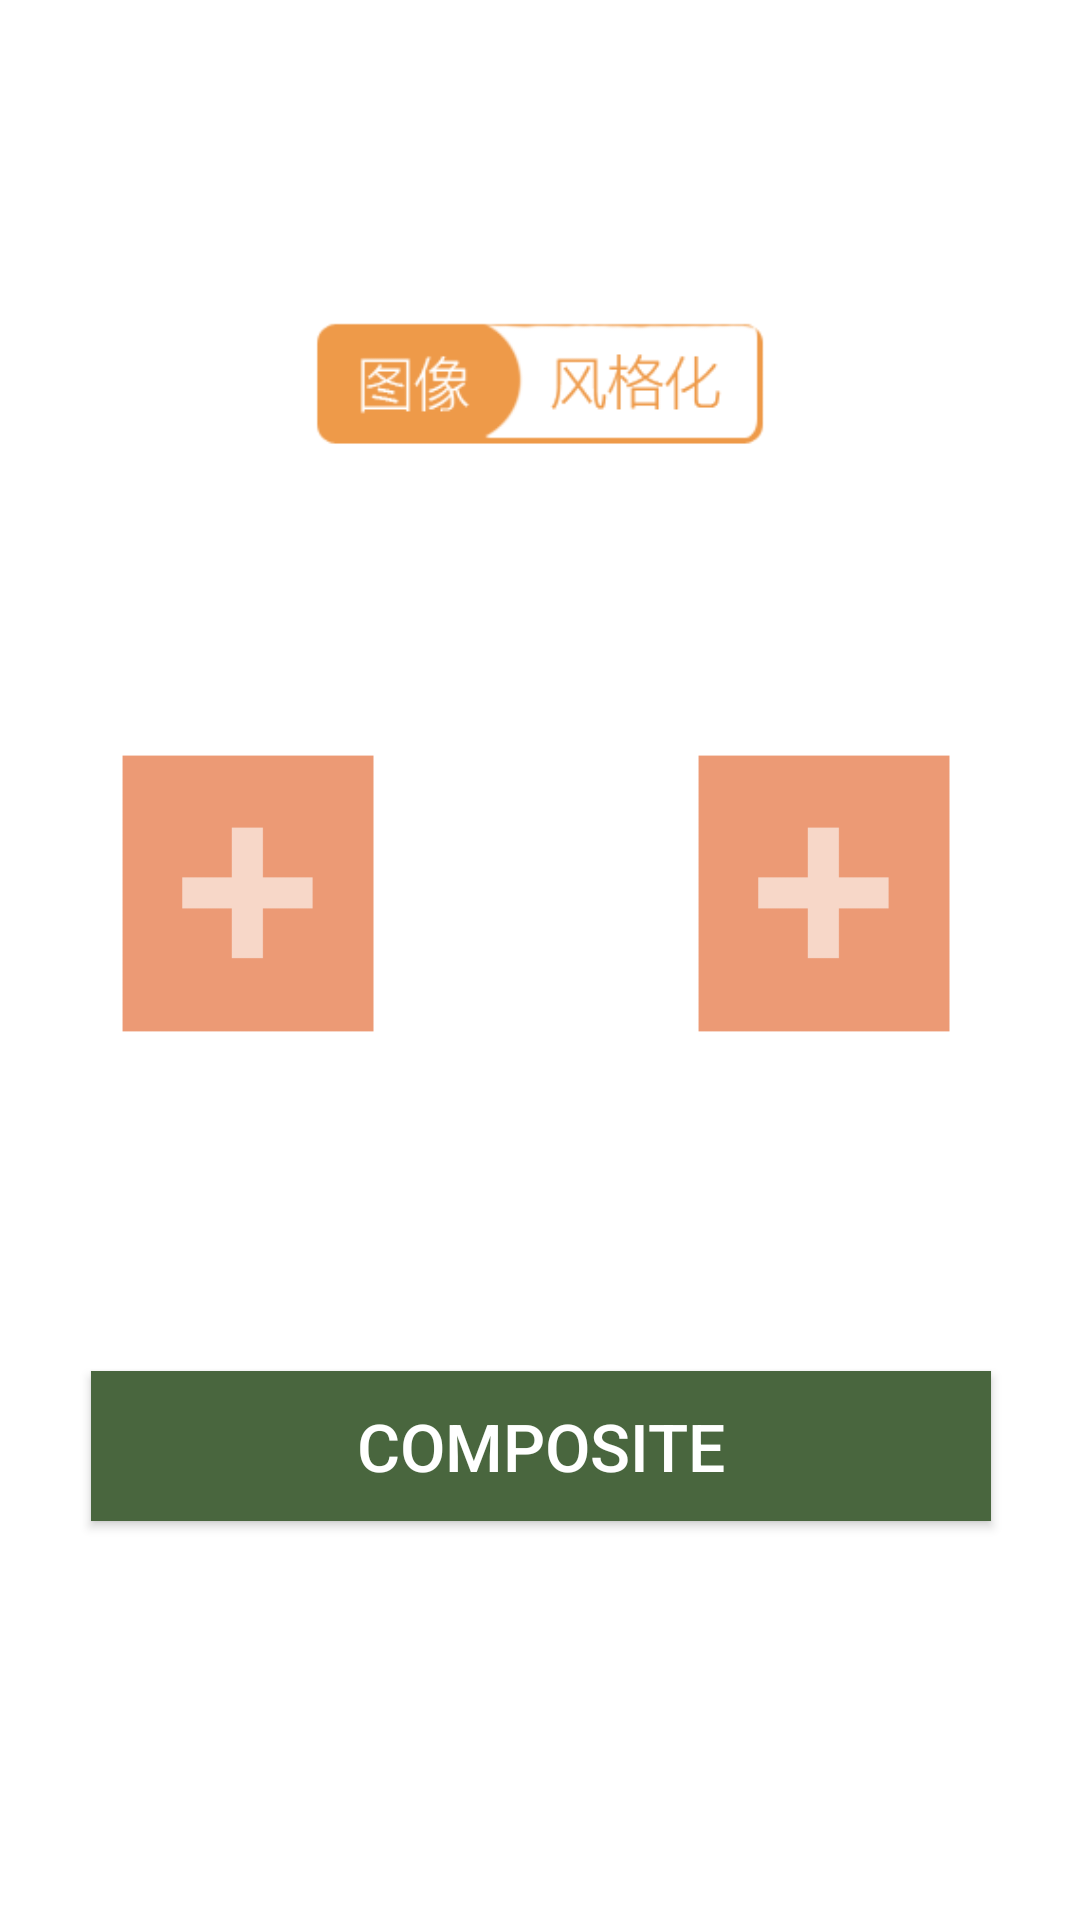

Where to tap for icons on this 1080 × 1920 app screen, as point (x, y):
add: point (248, 893), point (824, 893)
